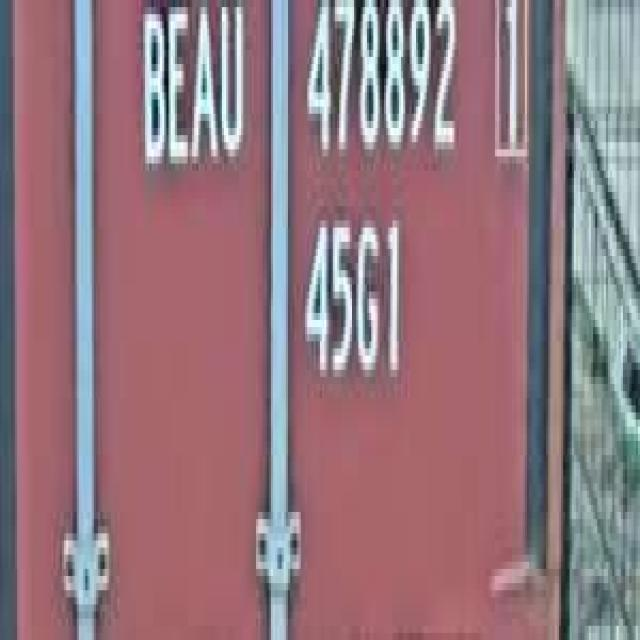dv: (486, 0, 534, 185)
owner: (136, 0, 250, 192)
serial: (301, 0, 463, 185)
size: (298, 192, 408, 405)
